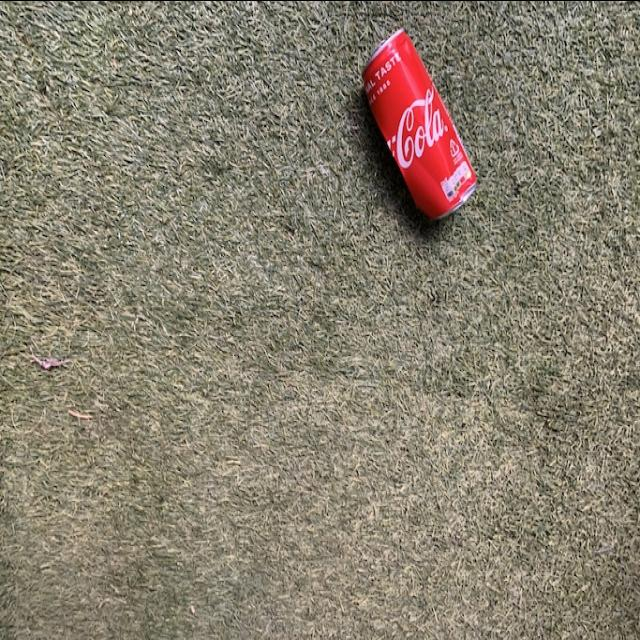Aluminum Can: (363, 25, 479, 219)
